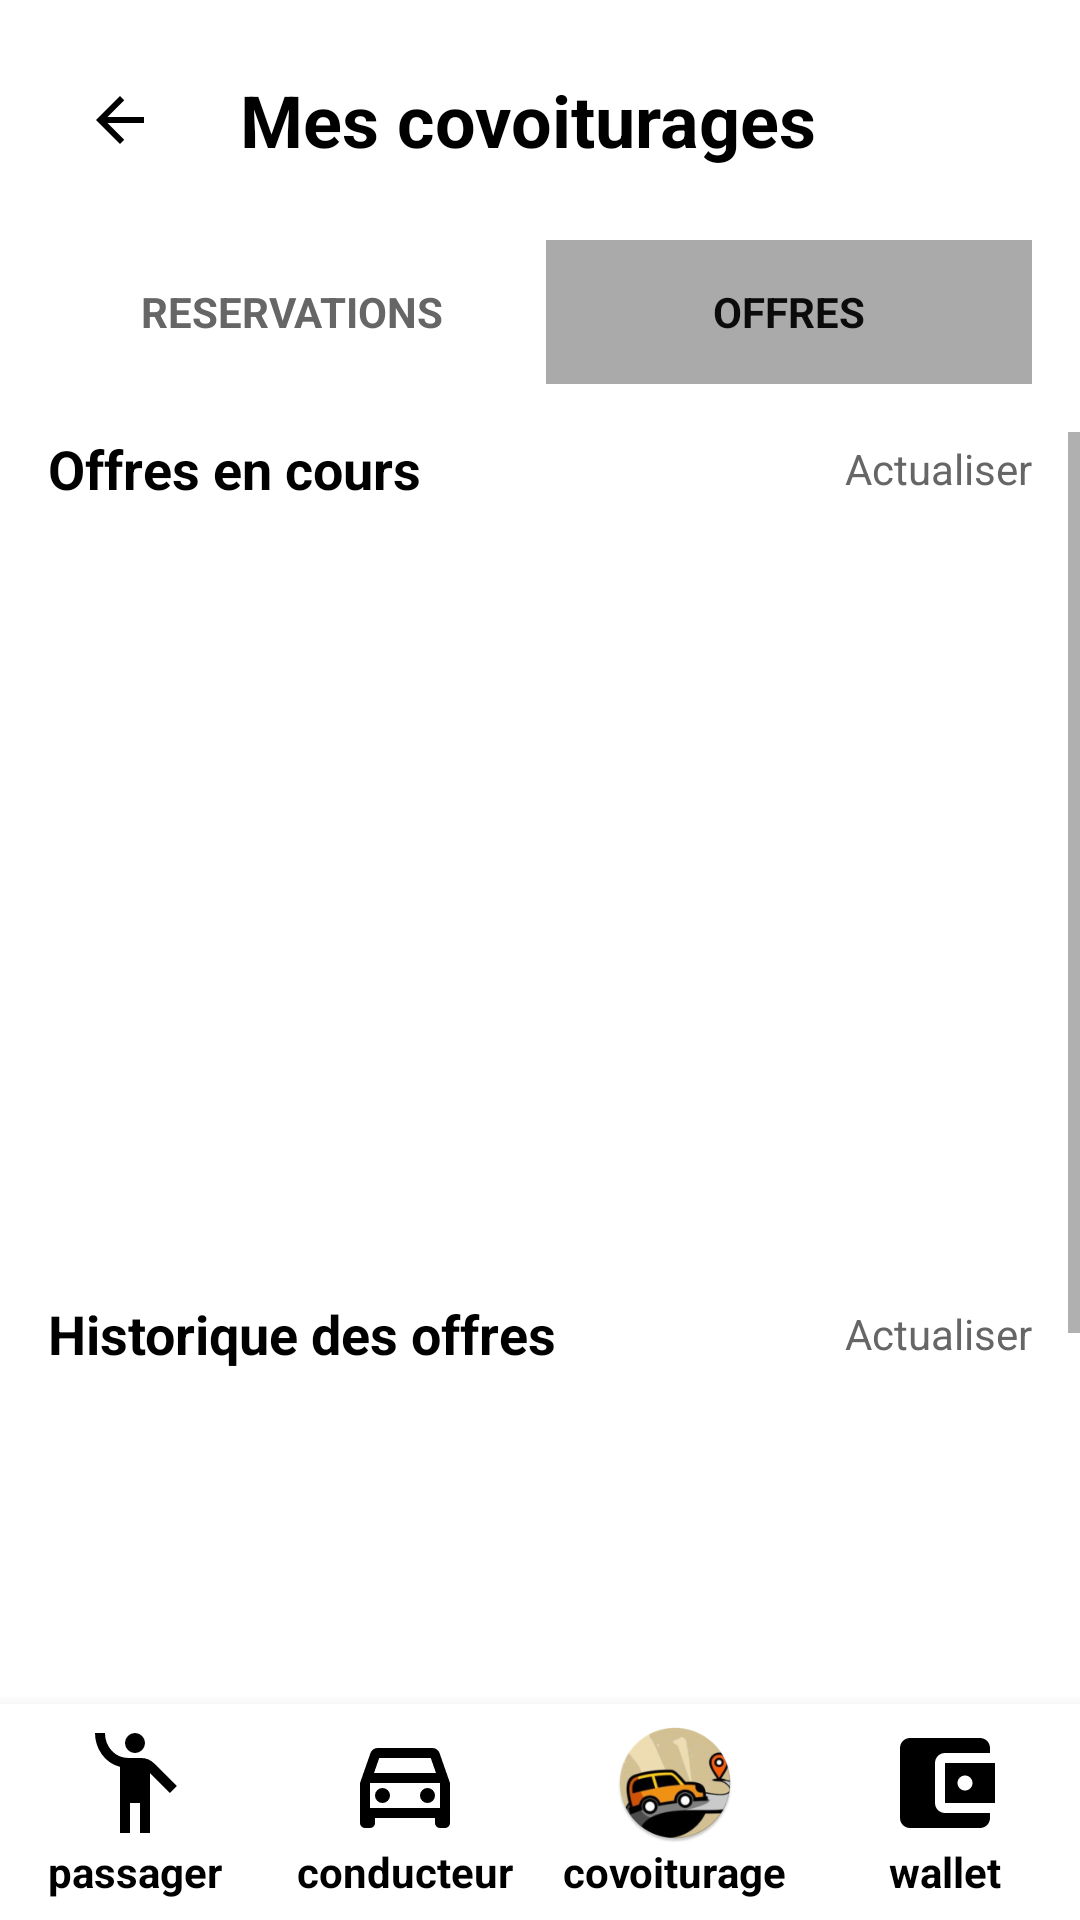

Icon click points for this 1080px x 1920px phone screenshot, format (x,y):
directions car: (405,1788)
Go back: (120,120)
